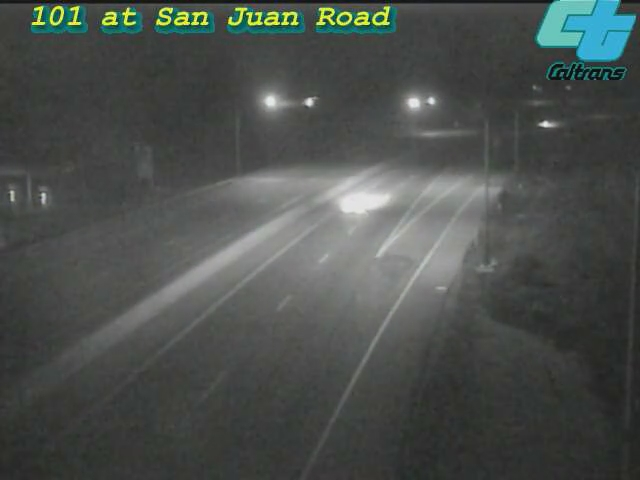vehicle: (315, 166, 395, 246), (521, 99, 571, 149)
